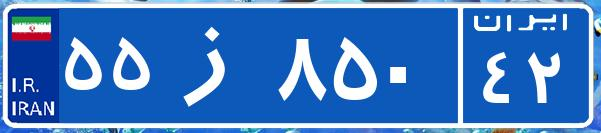0: (385, 28, 445, 110)
2: (525, 38, 570, 115)
4: (475, 38, 525, 113)
5: (330, 28, 385, 110), (57, 26, 110, 107), (110, 28, 158, 105)
8: (273, 28, 330, 110)
ز: (158, 15, 273, 115)
